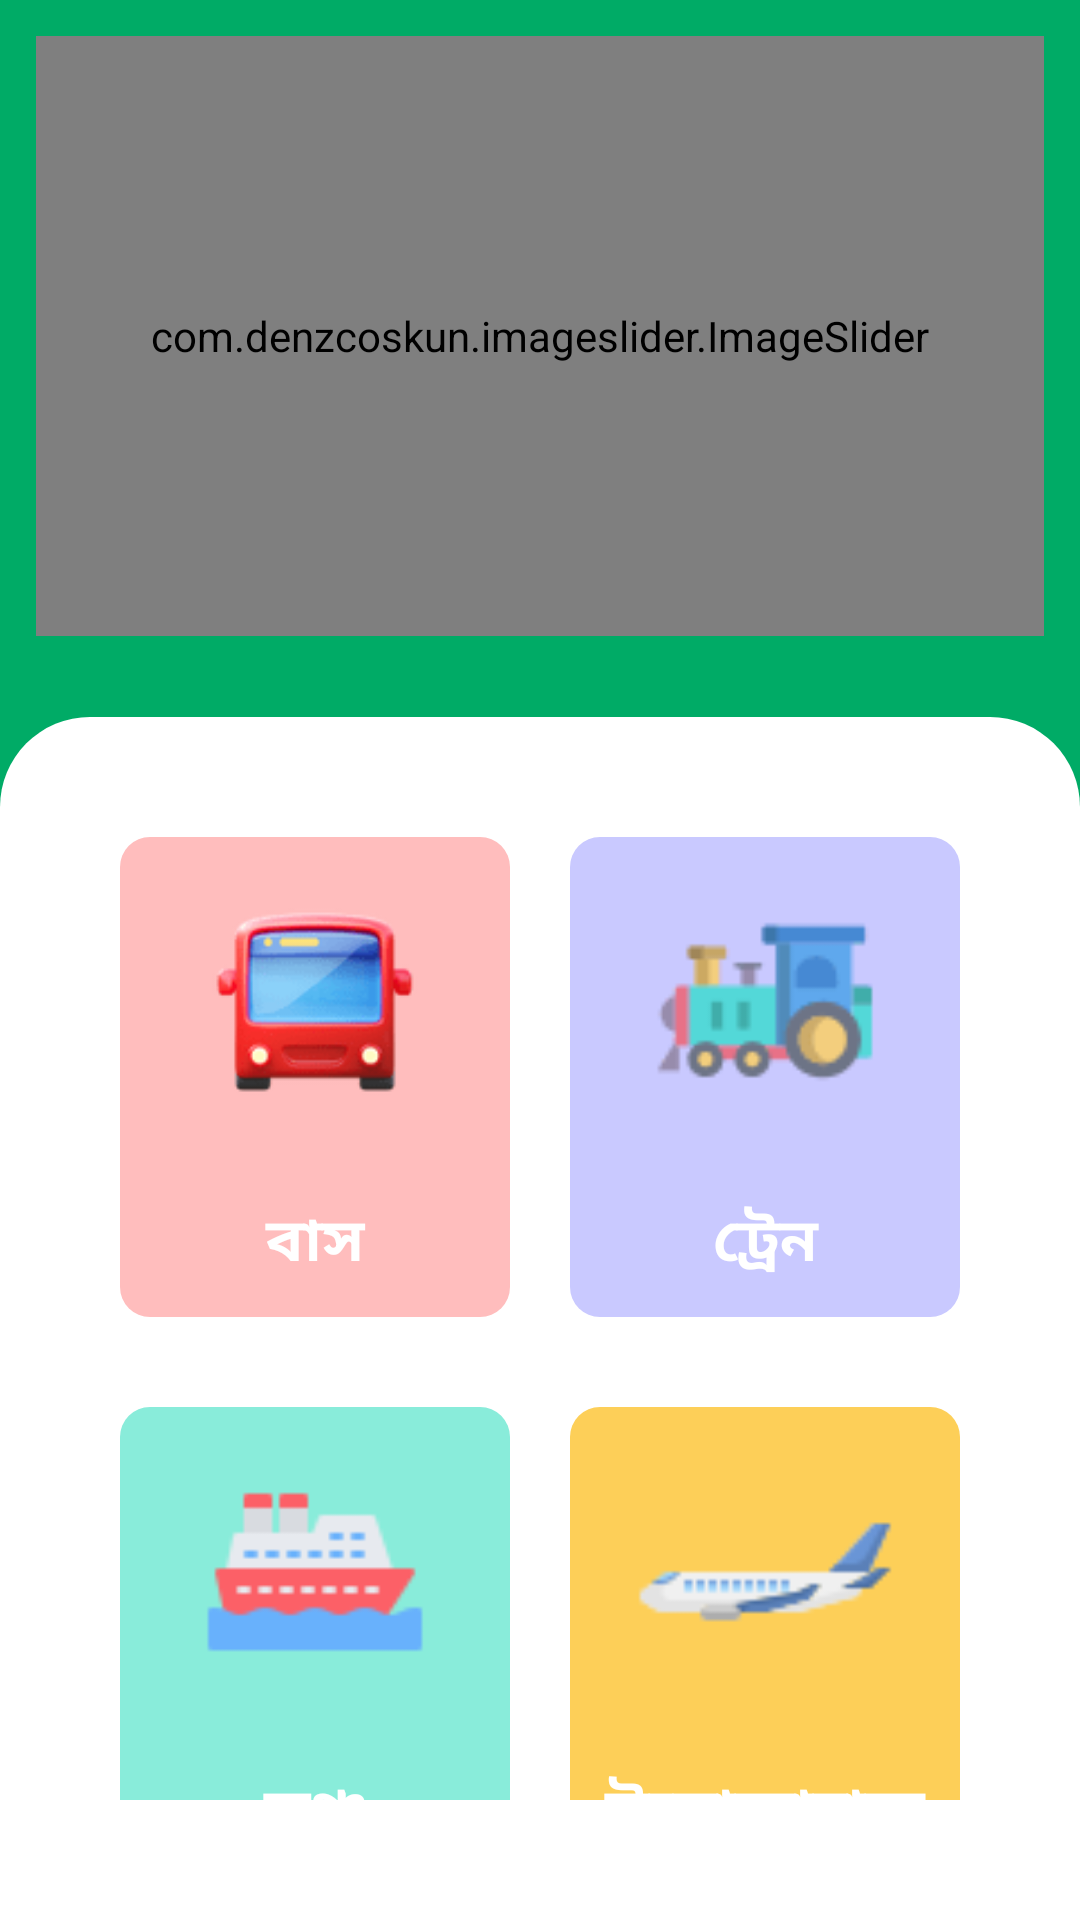

Locate icon controls on the screen. Image size 1080px×1920px, boxes as bbox=[x1, y1, x2, y2].
bus: bbox=[217, 915, 413, 1092]
plane: bbox=[639, 1522, 891, 1621]
ship: bbox=[208, 1492, 422, 1651]
train: bbox=[658, 923, 873, 1079]
